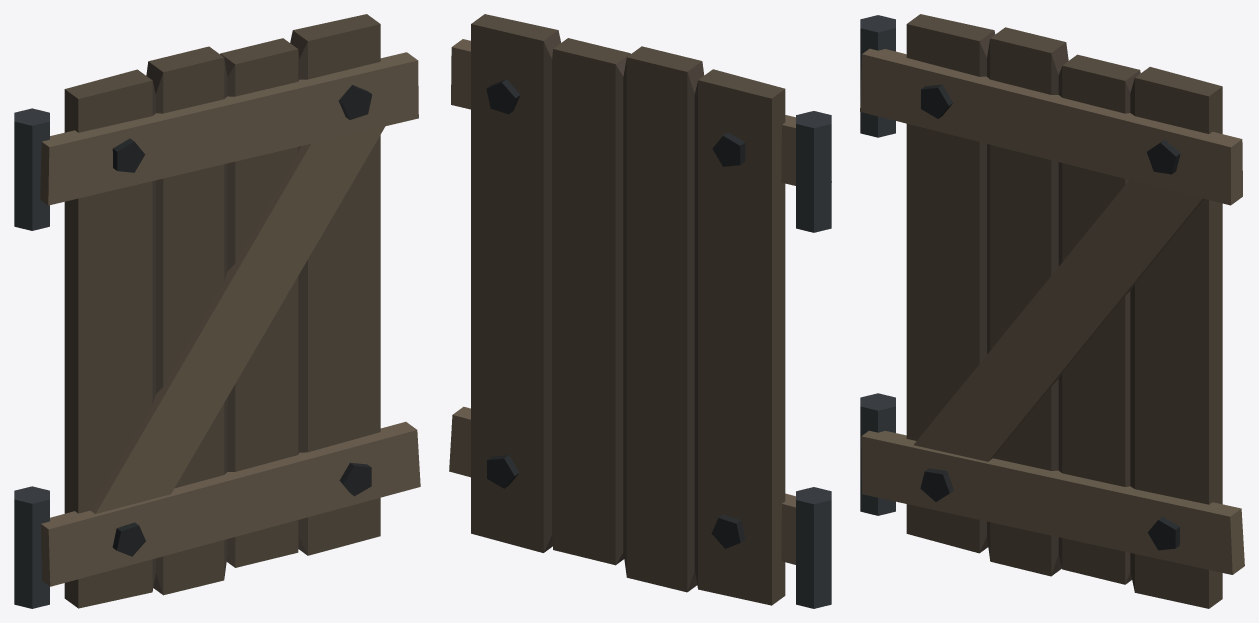
The model's file is SM_Bld_Village_Window_Shutter_01.glb.
3 views of the same model, side by side, from view 1: azimuth 30°, elevation 25°; view 2: azimuth 150°, elevation 25°; view 3: azimuth 330°, elevation 25° (orthographic).
Parts seen in each view (by area): view 1: SM_Bld_Village_Window_Shutter_01; view 2: SM_Bld_Village_Window_Shutter_01; view 3: SM_Bld_Village_Window_Shutter_01.
Boxes of the visible parts, box(x1,y1,x2,y2) form: SM_Bld_Village_Window_Shutter_01: box(14, 14, 420, 608); SM_Bld_Village_Window_Shutter_01: box(449, 14, 831, 608); SM_Bld_Village_Window_Shutter_01: box(860, 14, 1244, 608).
Size of the model in its own units: 1.19 by 1.53 by 0.1652.
Materials: 1 (1 with a texture image).
